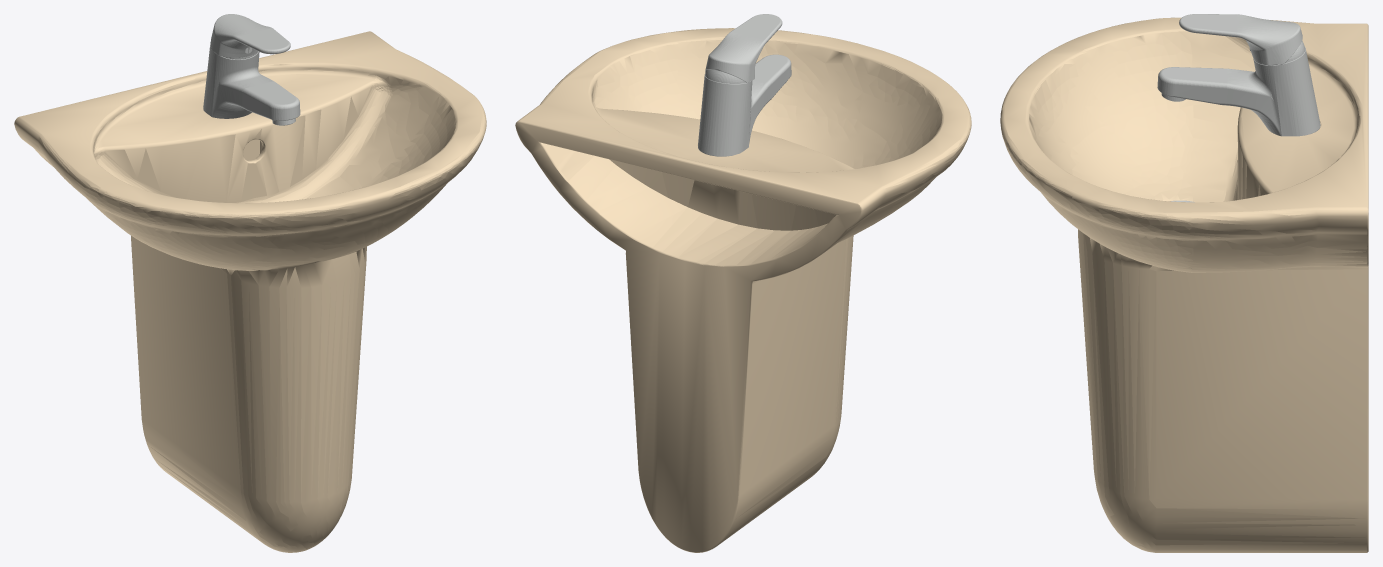
Rendered from Lavabo_opt.obj.
3 renders of one model, left to right at view 1: azimuth 30°, elevation 25°; view 2: azimuth 150°, elevation 25°; view 3: azimuth 270°, elevation 25°, orthographic. The views are drawn at different scales.
Parts seen in each view (by area): view 1: default_1_1, default_1_2; view 2: default_1_1, default_1_2; view 3: default_1_1, default_1_2.
Boxes of the visible parts, x1=… form: default_1_1: x1=14, y1=31, x2=486, y2=552; default_1_2: x1=203, y1=14, x2=300, y2=125; default_1_1: x1=515, y1=28, x2=971, y2=552; default_1_2: x1=698, y1=14, x2=791, y2=156; default_1_1: x1=1000, y1=17, x2=1368, y2=552; default_1_2: x1=1157, y1=14, x2=1320, y2=136.
Bounding box in the file's own units: 45.34 × 55.65 × 35.16.
Materials: 2 (2 with a texture image).
